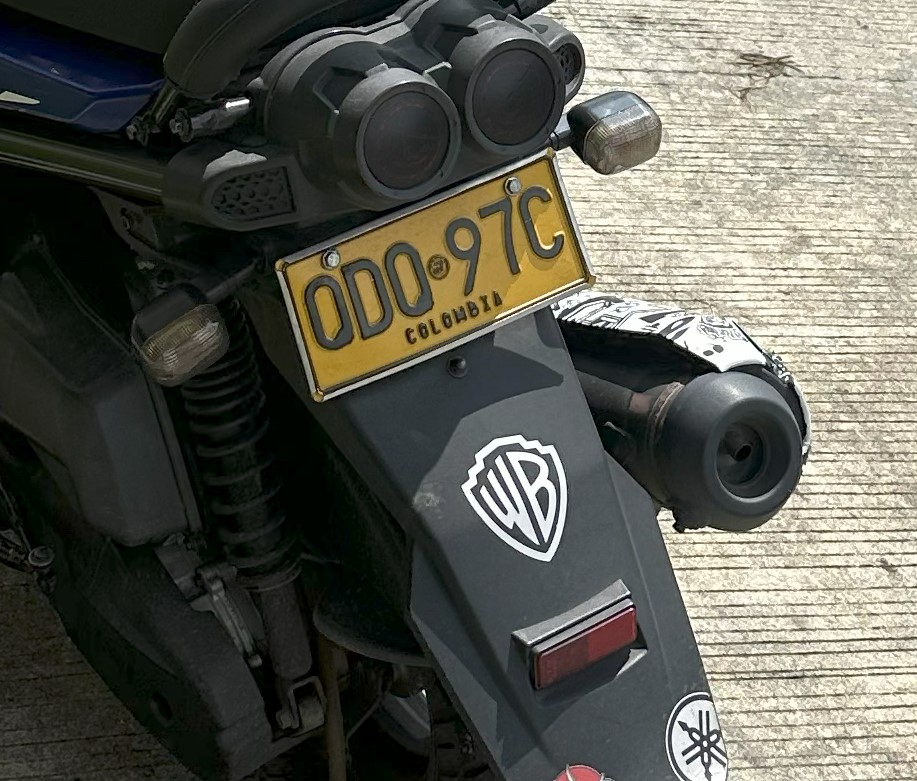number plate: (276, 151, 591, 400)
